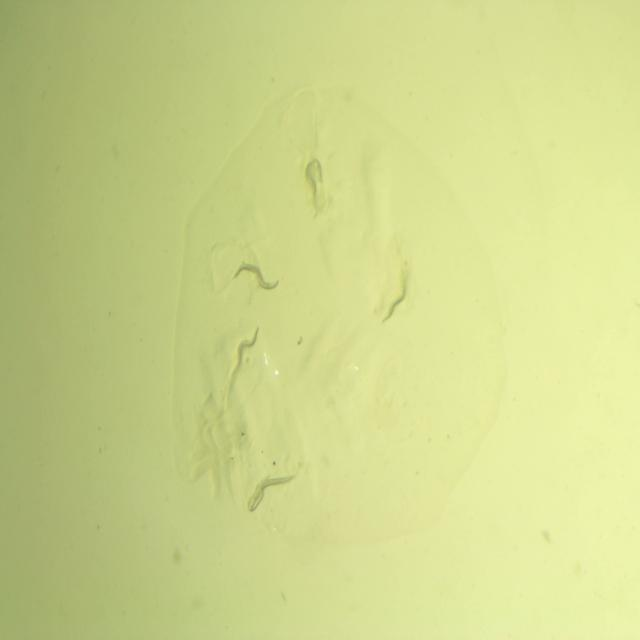worm: (247, 470, 298, 512), (228, 258, 280, 295), (231, 324, 262, 374), (380, 280, 410, 325), (300, 154, 326, 202), (244, 472, 272, 516)
